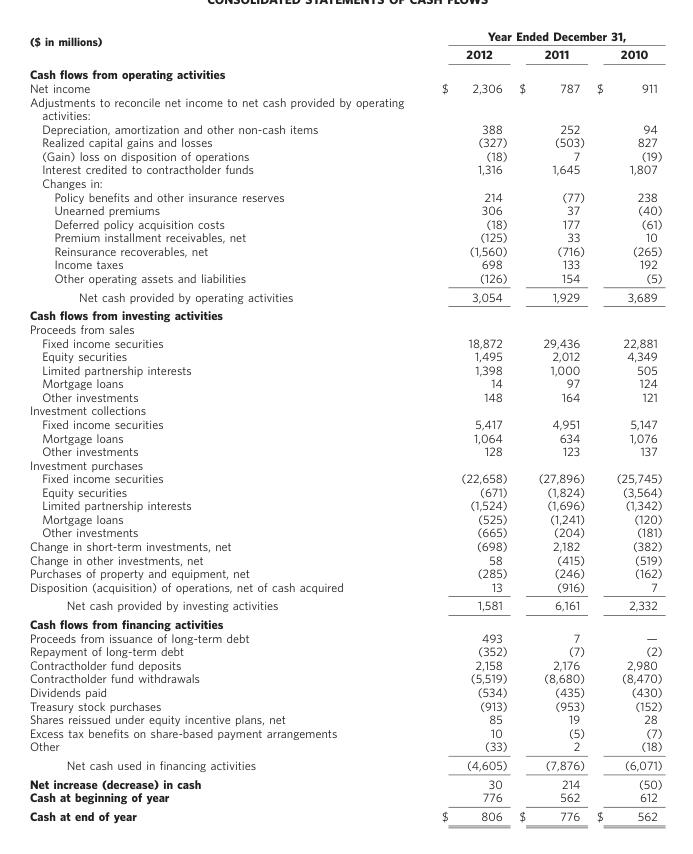table: (28, 28, 661, 822)
table column: (28, 28, 391, 822), (391, 28, 512, 822), (512, 28, 590, 822), (590, 28, 661, 822)
table column header: (28, 28, 661, 64)
table projected row header: (28, 94, 661, 121), (28, 64, 661, 80), (28, 305, 661, 321), (28, 614, 661, 630), (28, 175, 661, 189), (28, 321, 661, 335), (28, 457, 661, 471), (28, 403, 661, 416)
table row: (28, 94, 661, 121), (28, 44, 661, 64), (28, 286, 661, 305), (28, 595, 661, 614), (28, 755, 661, 774), (28, 28, 661, 44), (28, 64, 661, 80), (28, 270, 661, 286), (28, 305, 661, 321), (28, 579, 661, 595), (28, 614, 661, 630), (28, 739, 661, 755), (28, 774, 661, 790), (28, 790, 661, 806), (28, 806, 661, 822), (28, 80, 661, 94), (28, 121, 661, 135), (28, 148, 661, 162), (28, 175, 661, 189), (28, 202, 661, 216), (28, 216, 661, 230), (28, 243, 661, 257), (28, 321, 661, 335), (28, 348, 661, 362), (28, 362, 661, 376), (28, 389, 661, 403), (28, 416, 661, 430), (28, 443, 661, 457), (28, 457, 661, 471), (28, 484, 661, 498), (28, 511, 661, 525), (28, 538, 661, 552), (28, 552, 661, 566), (28, 630, 661, 644), (28, 657, 661, 671), (28, 684, 661, 698), (28, 698, 661, 712), (28, 725, 661, 739), (28, 135, 661, 148), (28, 162, 661, 175), (28, 189, 661, 202), (28, 230, 661, 243), (28, 257, 661, 270), (28, 335, 661, 348), (28, 376, 661, 389), (28, 403, 661, 416), (28, 430, 661, 443), (28, 471, 661, 484), (28, 498, 661, 511), (28, 525, 661, 538), (28, 566, 661, 579), (28, 644, 661, 657), (28, 671, 661, 684), (28, 712, 661, 725)
table spanning cell: (28, 28, 391, 64), (391, 28, 661, 44)
